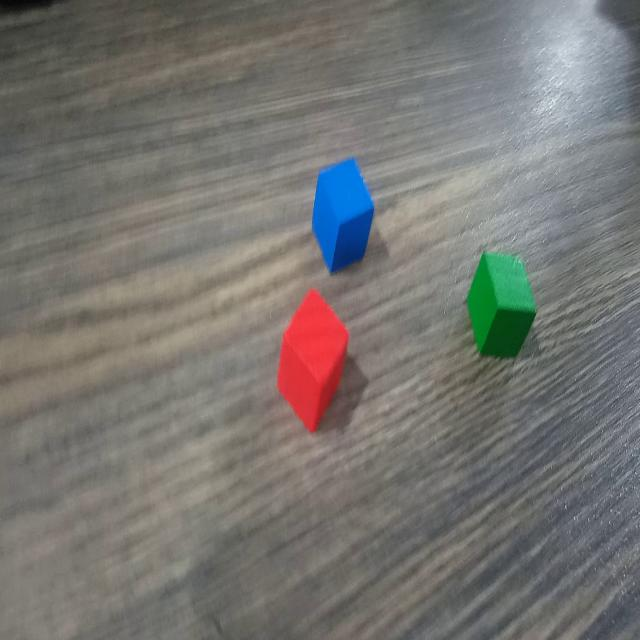cube: (275, 286, 351, 439), (464, 246, 540, 361), (309, 154, 376, 279)
